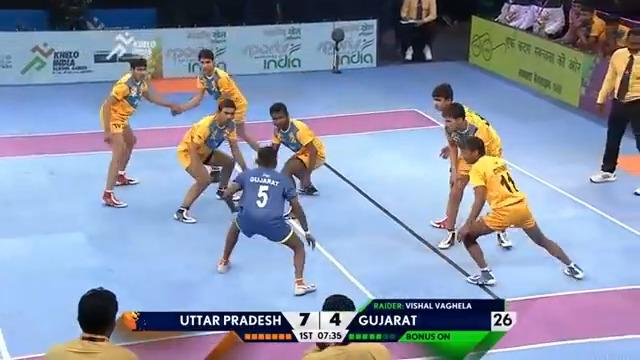Player: (447, 134, 584, 286), (429, 82, 512, 249), (99, 56, 180, 208), (170, 48, 261, 178), (172, 97, 246, 223), (263, 101, 326, 196)
Raider: (216, 145, 317, 296)
referee: (588, 27, 639, 195), (42, 286, 138, 359), (300, 293, 392, 359), (46, 0, 105, 30)
